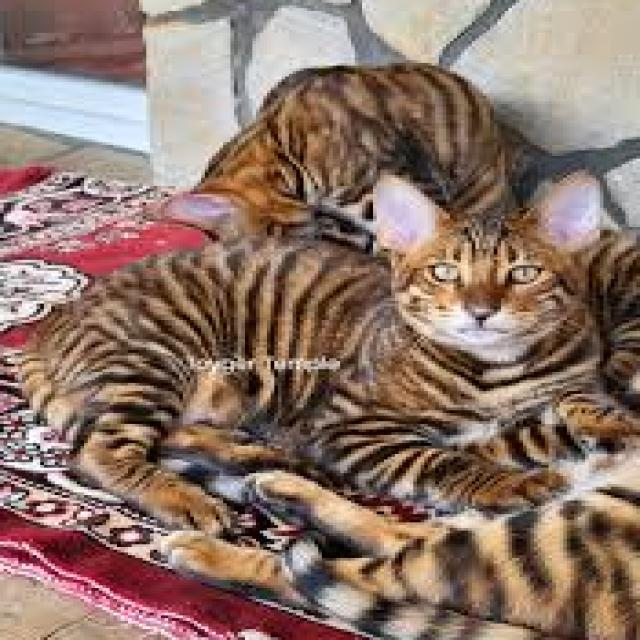Toyger: (15, 170, 638, 538)
